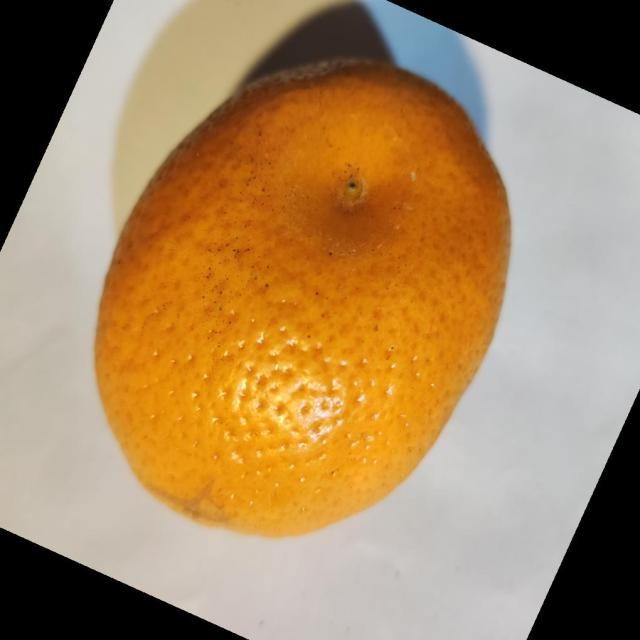agrume: (92, 56, 513, 538)
